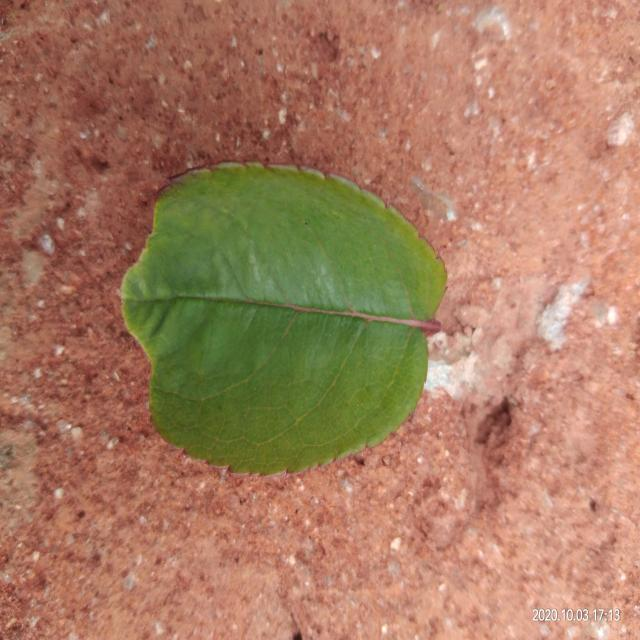rose: (121, 163, 446, 475)
